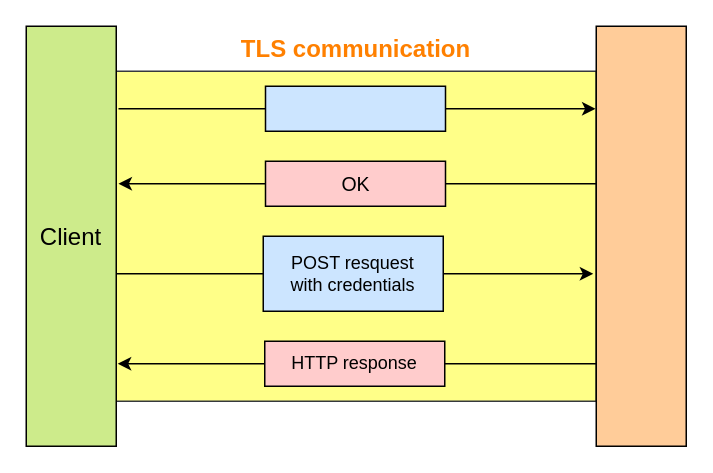
This 713x473 diagram has some shape labels left out. The shapes that lost their labels are listed below. From the top down, each one's box as (x1, y1, x2, y2) in pixels, then its label:
(264, 85, 446, 131): (m, n, sign(m||n))
(595, 25, 686, 446): Server
